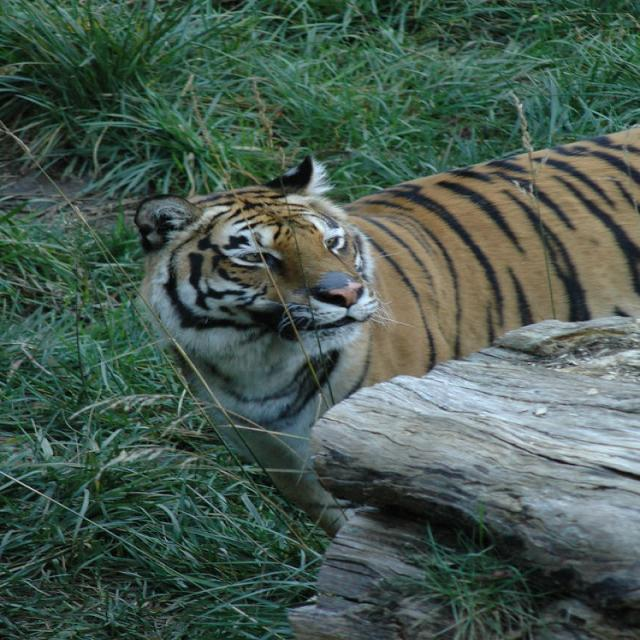Tiger: (127, 124, 636, 536)
